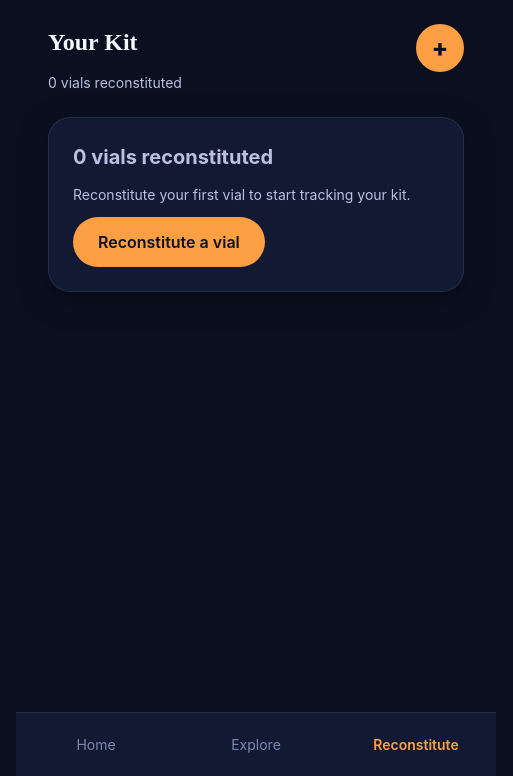
KitView default add-vial peptide › opens the calculator for the active protocol peptide (Tesamorelin), not 5-Amino
Click the button "Reconstitute a vial" at (169, 242), box [73,217,265,267]
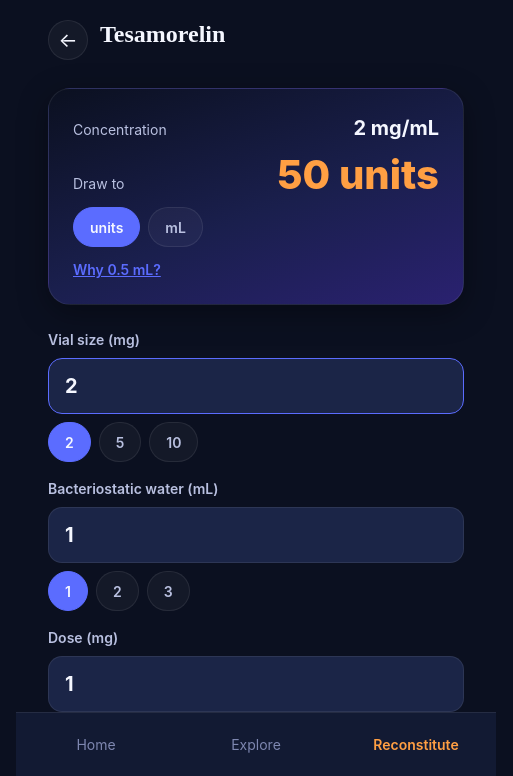
Expected: the heading "Tesamorelin" is shown, [100,16,225,52]
